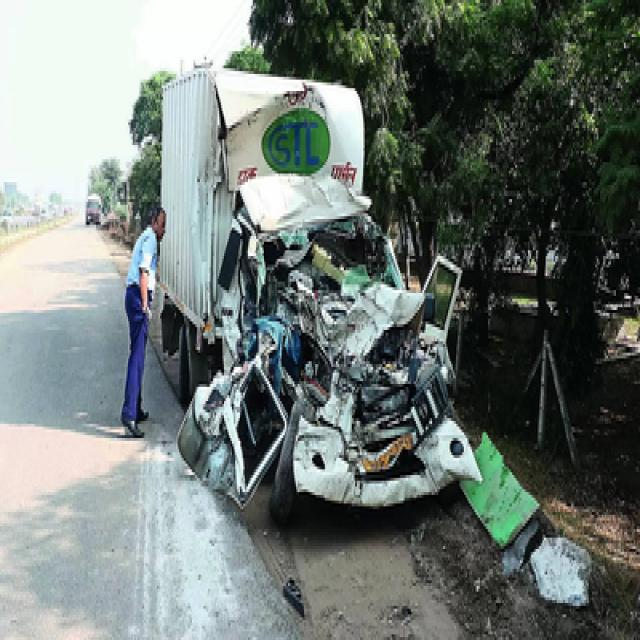accident: (160, 71, 478, 521)
